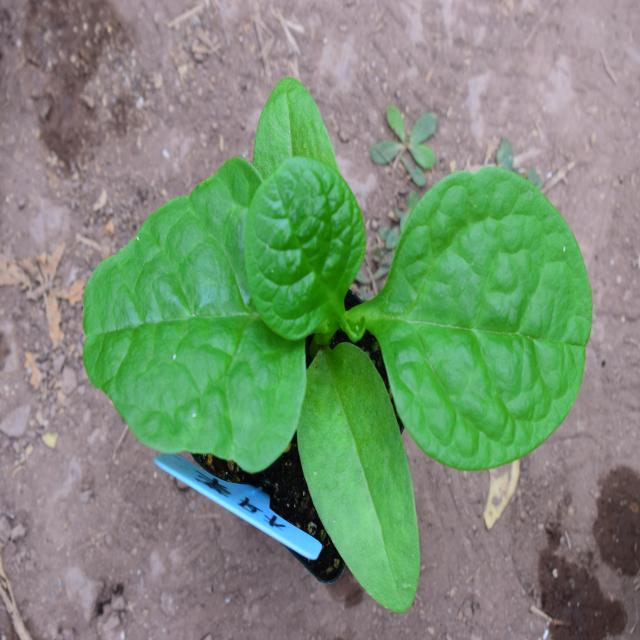Ceylon spinach: (96, 131, 603, 599)
